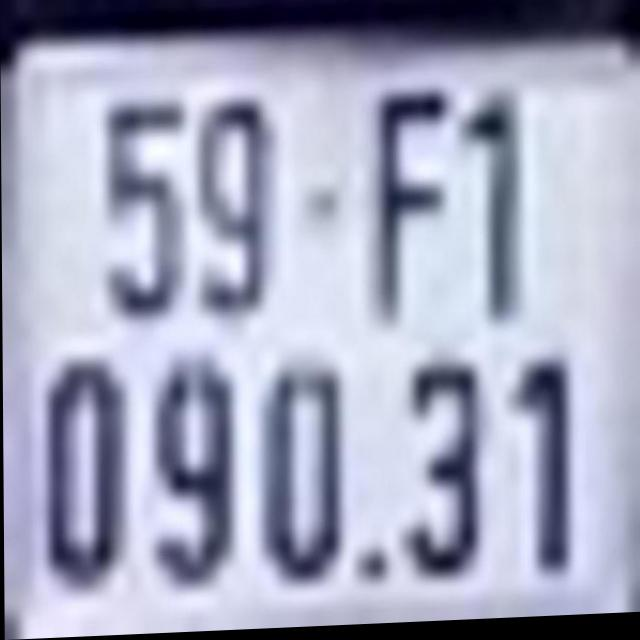0: (43, 341, 126, 592), (260, 358, 348, 588)
1: (503, 335, 577, 581), (461, 85, 529, 322)
3: (400, 360, 480, 579)
5: (98, 86, 187, 322)
9: (146, 352, 237, 583), (189, 88, 274, 323)
F: (366, 70, 455, 337)
